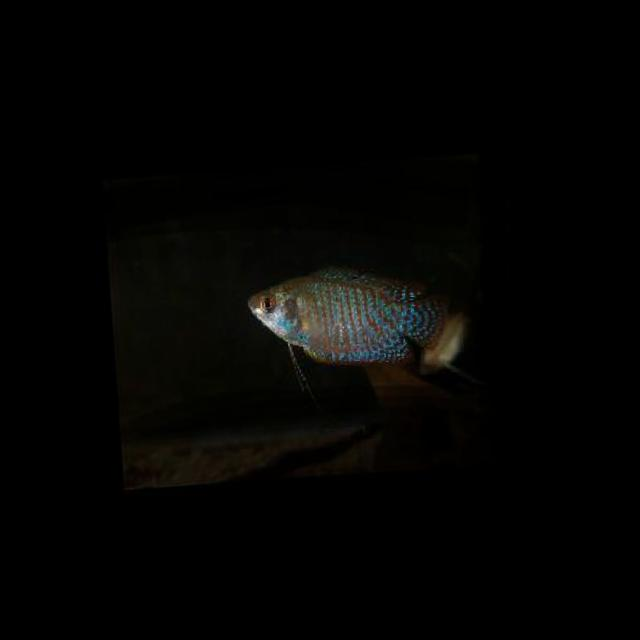Gourami: (241, 255, 453, 369)
